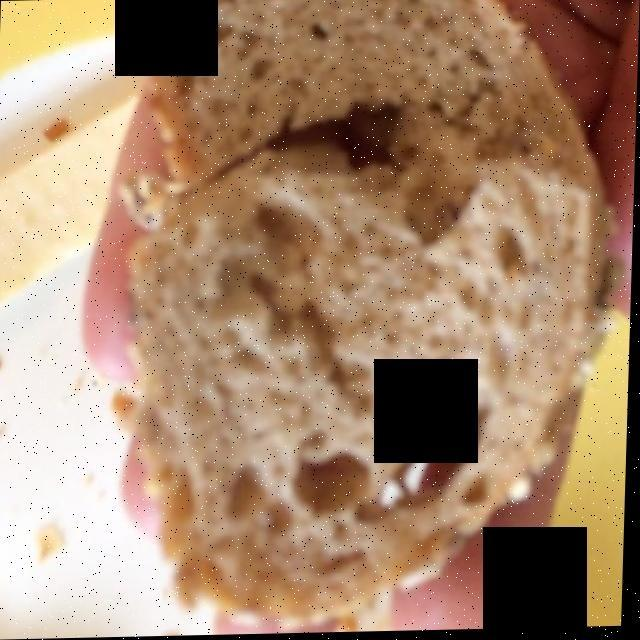bread: (130, 0, 615, 622)
